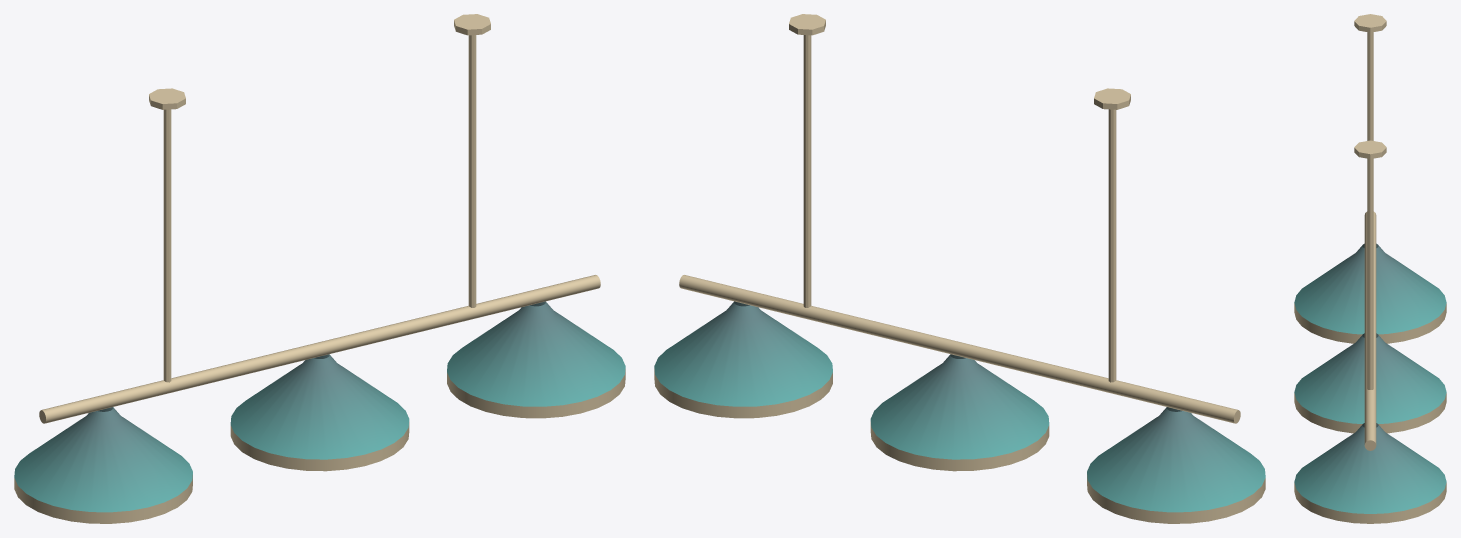
File: KC32__AD_Int_Lamp_Billiard.glb
The picture shows the model from 3 angles, left to right: view 1: azimuth 30°, elevation 25°; view 2: azimuth 150°, elevation 25°; view 3: azimuth 270°, elevation 25°; orthographic projection. The views are drawn at different scales.
Visible parts, largest first — view 1: KC32_CORPS__AD_Int_Lamp_Billiard, KC32_BRONZE__AD_Int_Lamp_Billiard; view 2: KC32_CORPS__AD_Int_Lamp_Billiard, KC32_BRONZE__AD_Int_Lamp_Billiard; view 3: KC32_CORPS__AD_Int_Lamp_Billiard, KC32_BRONZE__AD_Int_Lamp_Billiard.
Boxes of the visible parts, <box> form: KC32_CORPS__AD_Int_Lamp_Billiard: <box>14,301,625,512</box>; KC32_BRONZE__AD_Int_Lamp_Billiard: <box>14,14,625,523</box>; KC32_CORPS__AD_Int_Lamp_Billiard: <box>654,301,1265,512</box>; KC32_BRONZE__AD_Int_Lamp_Billiard: <box>654,14,1265,523</box>; KC32_CORPS__AD_Int_Lamp_Billiard: <box>1294,243,1446,513</box>; KC32_BRONZE__AD_Int_Lamp_Billiard: <box>1294,14,1446,523</box>.
Size of the model in its own units: 2.12 by 1.29 by 0.56.
